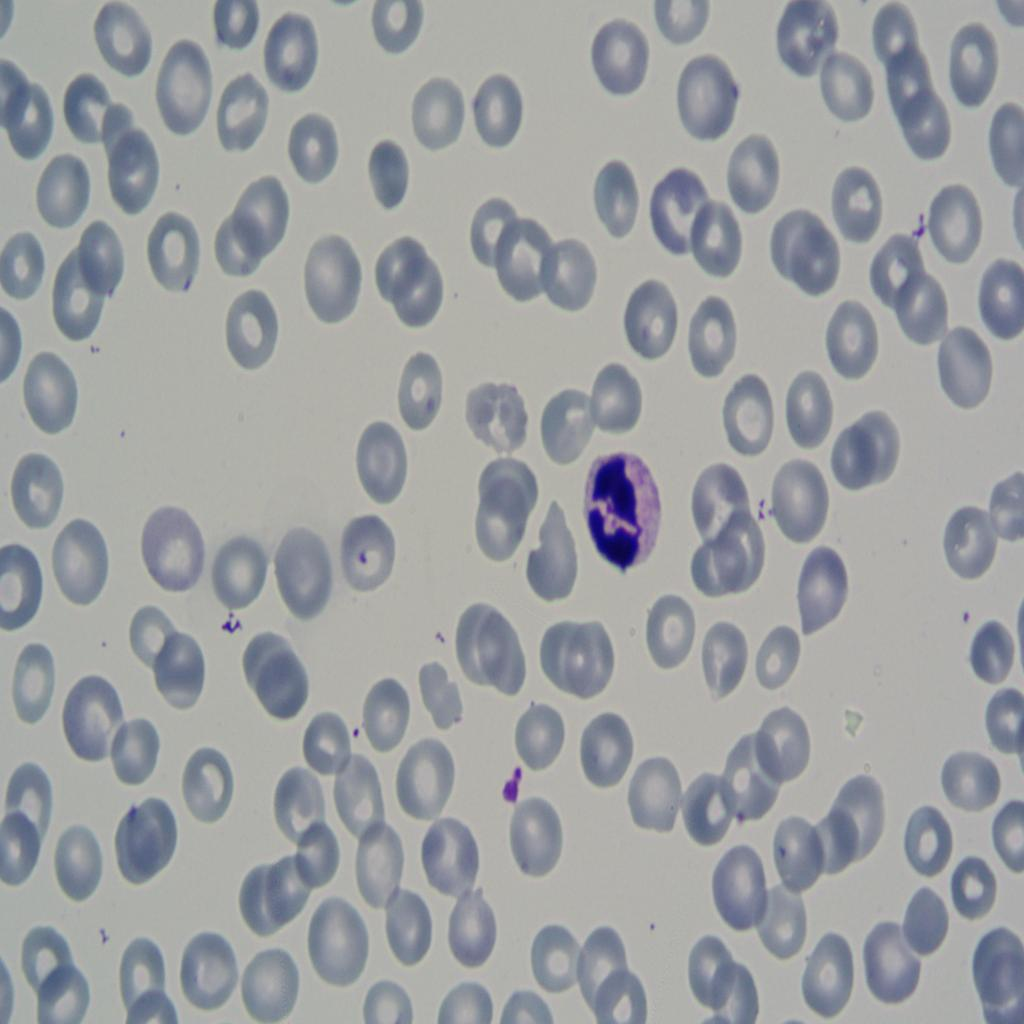Neutrofil: (583, 440, 664, 590)
Platelet: (496, 758, 527, 814), (352, 538, 383, 580), (951, 592, 976, 640), (348, 717, 368, 753)
